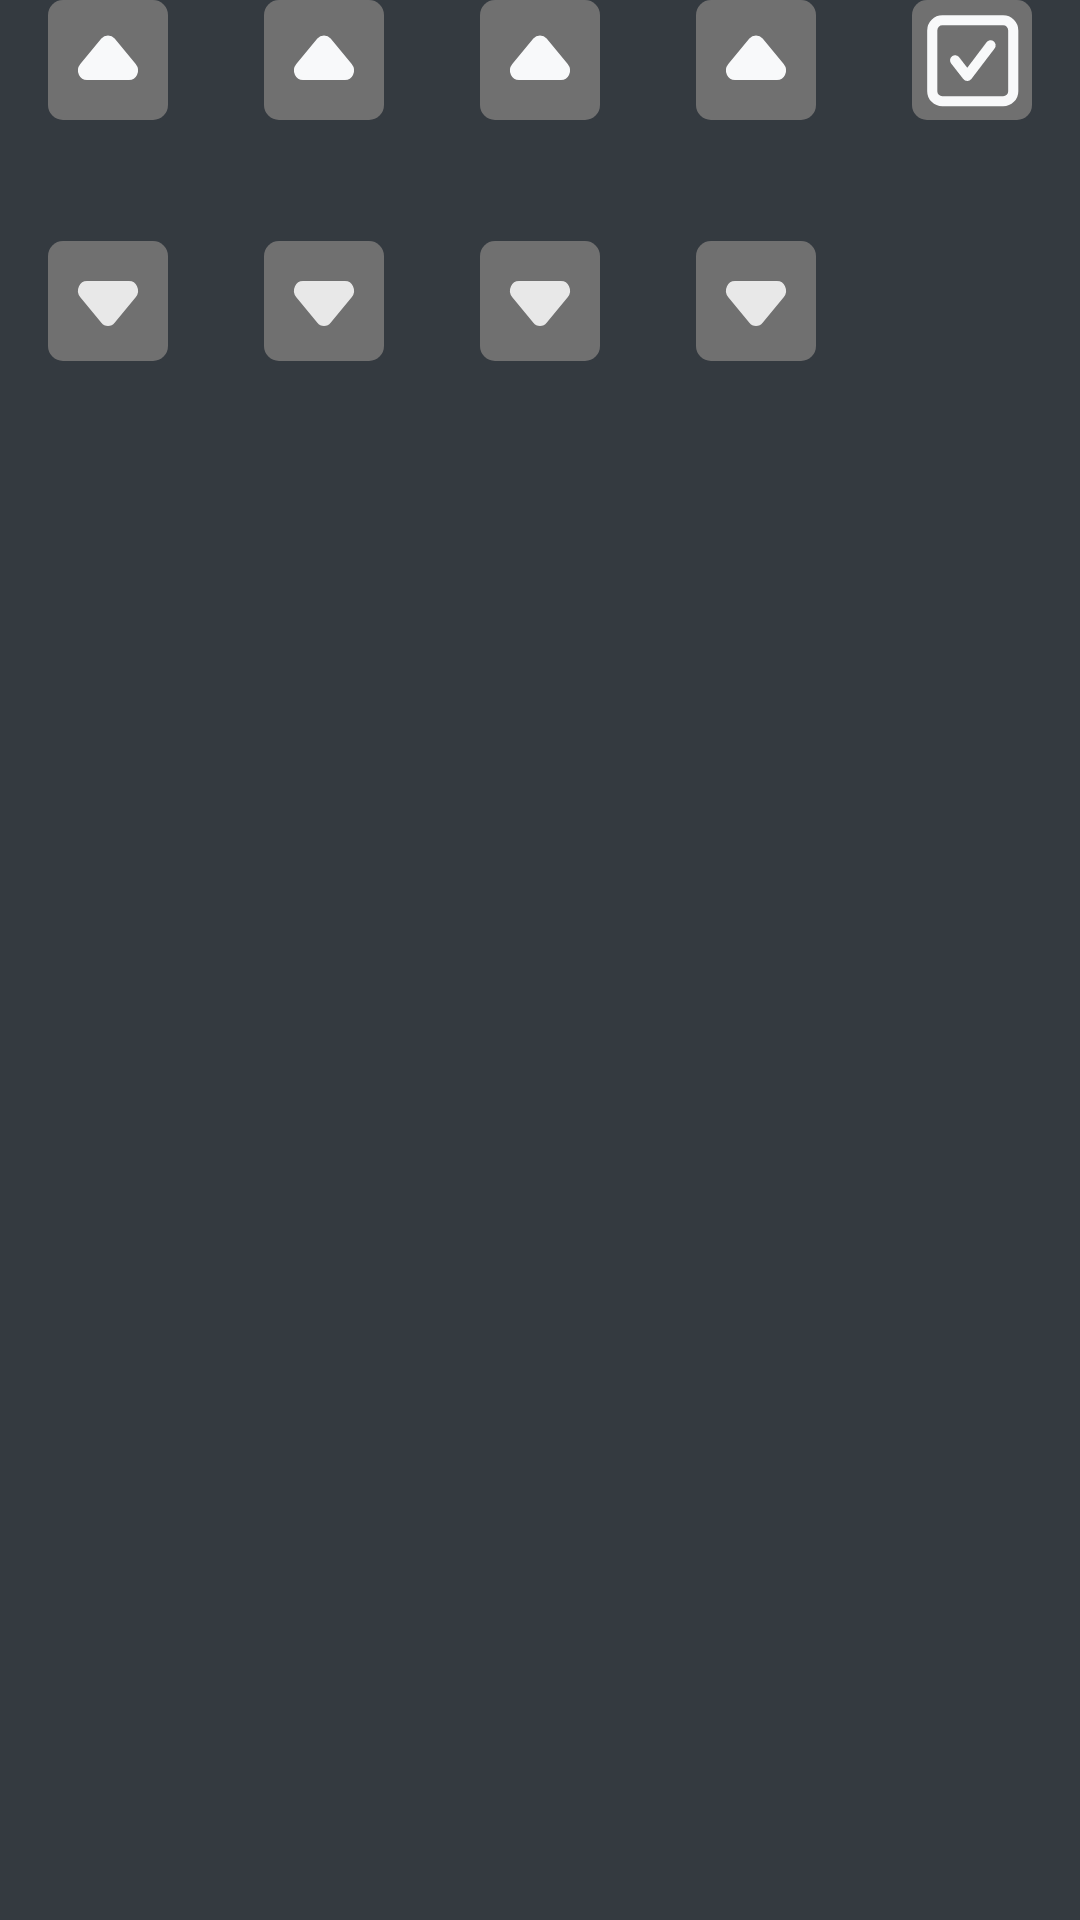

Screen size 1080px x 1920px. Icon name, then its center in pixels as point (x, y):
accept: point (972, 60)
down: point (108, 301), point (324, 301), point (540, 301), point (756, 301)
